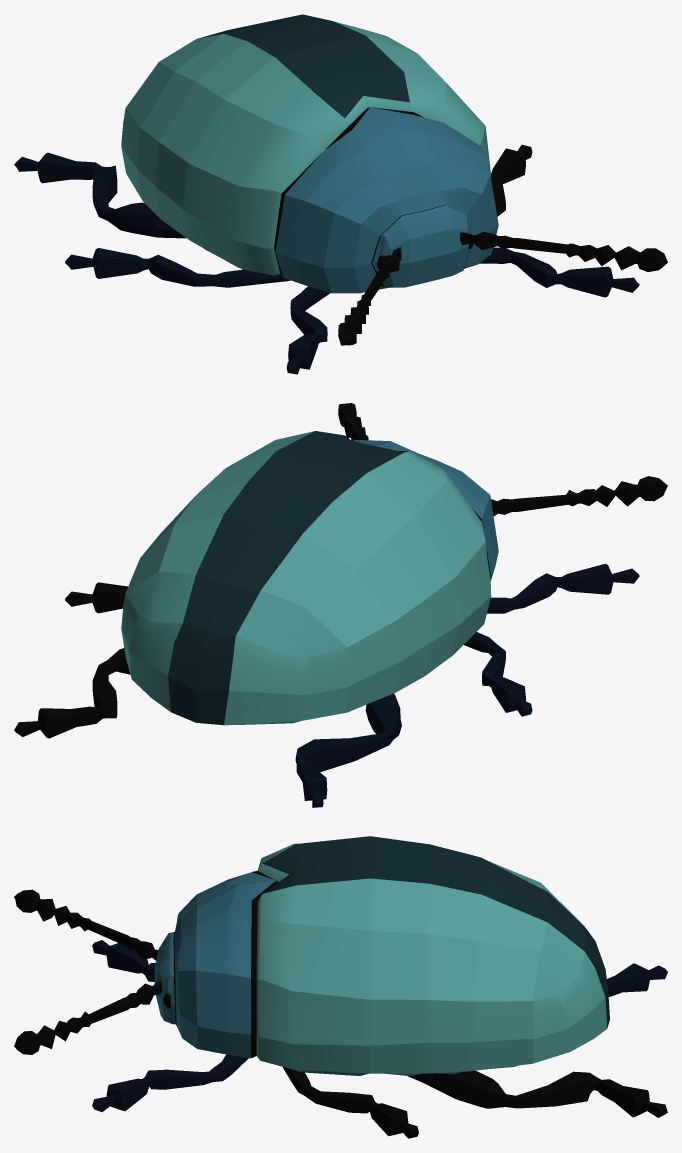
Rendered from buggy.fbx.
3 views of the same model, one above another, from view 1: azimuth 30°, elevation 25°; view 2: azimuth 150°, elevation 25°; view 3: azimuth 270°, elevation 25° (orthographic). The views are drawn at different scales.
Parts seen in each view (by area): view 1: pCube1, pCube3 (×2), pCube2 (×2), pCube4; view 2: pCube1, pCube4 (×2), pCube3 (×2), pCube2; view 3: pCube1, pCube4 (×2), pCube2 (×2), pCube3.
Boxes of the visible parts, <box> form: pCube1: <box>121,14,667,345</box>; pCube3 (×2): <box>65,144,532,287</box>; pCube2 (×2): <box>286,247,639,374</box>; pCube4: <box>14,152,186,238</box>; pCube1: <box>121,403,667,725</box>; pCube4 (×2): <box>14,648,401,807</box>; pCube3 (×2): <box>65,582,532,716</box>; pCube2: <box>487,563,639,613</box>; pCube1: <box>14,836,609,1076</box>; pCube4 (×2): <box>408,963,667,1117</box>; pCube2 (×2): <box>92,940,248,1112</box>; pCube3: <box>283,1067,418,1138</box>.
Bounding box in the file's own units: 10.68 × 4.42 × 13.52.
